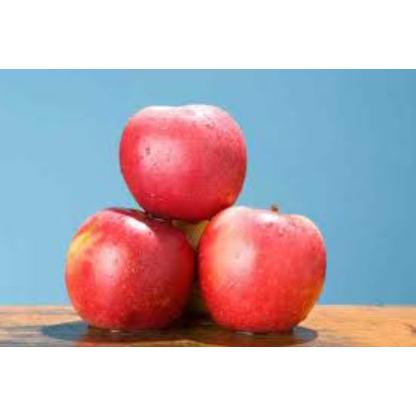apple: (198, 199, 326, 327), (119, 100, 247, 216), (65, 210, 193, 322)
